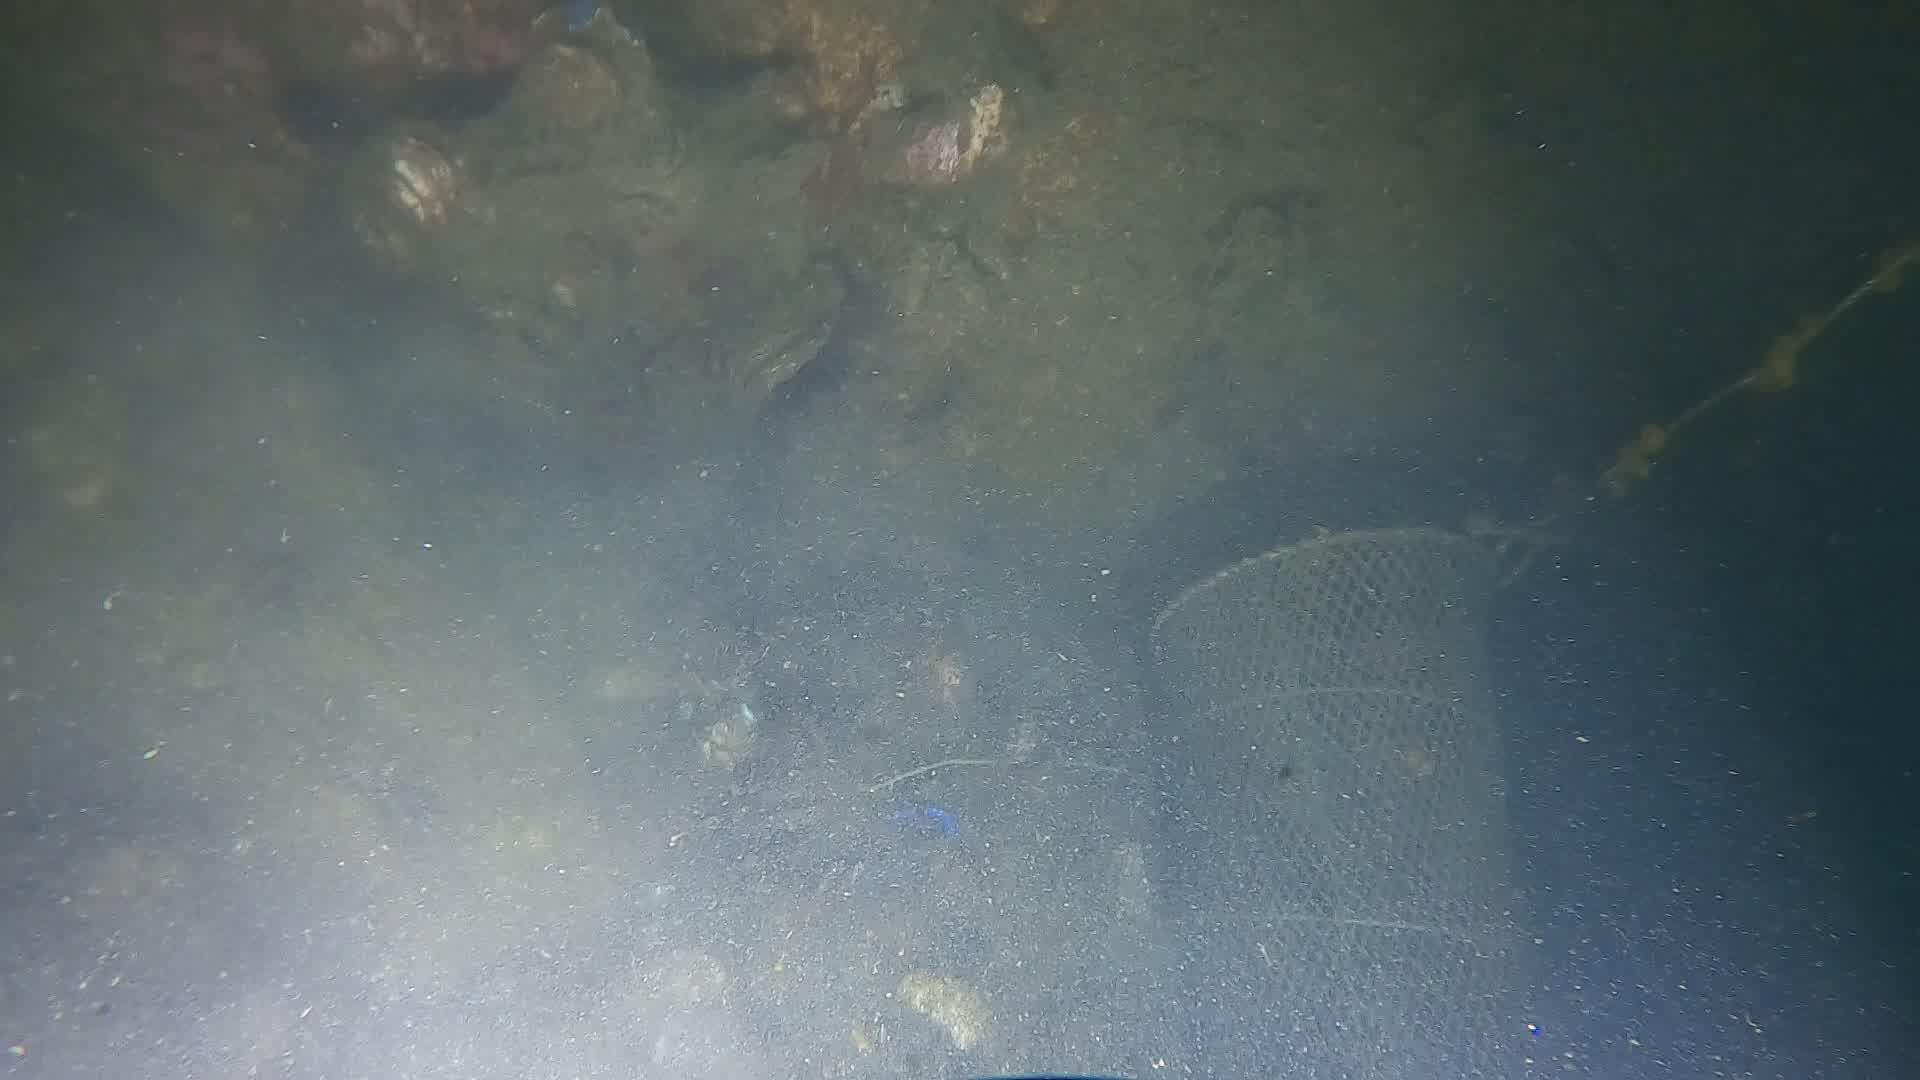spring fish trap: (1145, 524, 1497, 1080)
